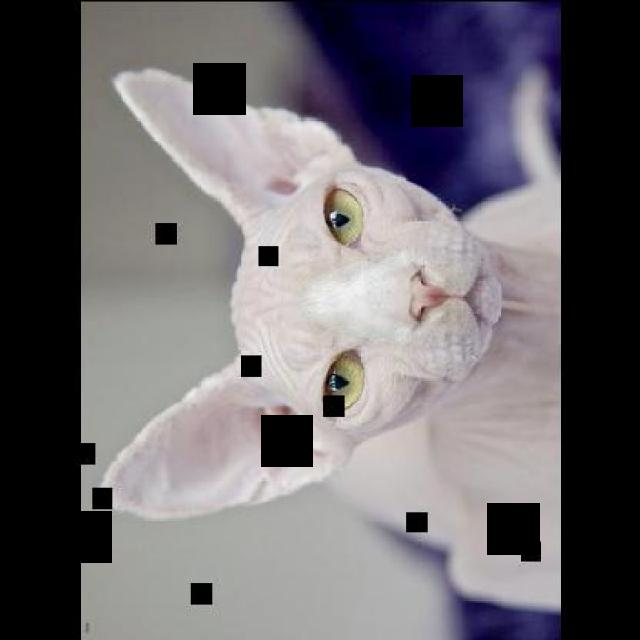unauthorized: (98, 64, 504, 522)
